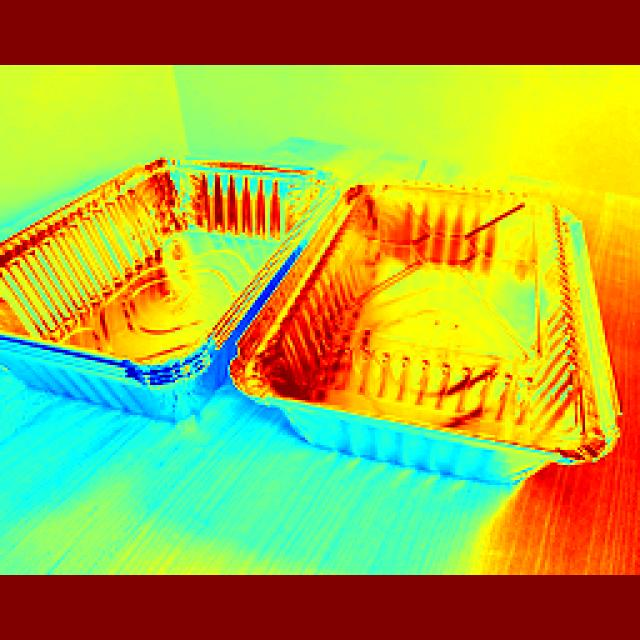Aluminium Food Cans: (268, 180, 587, 497), (5, 134, 268, 400)
